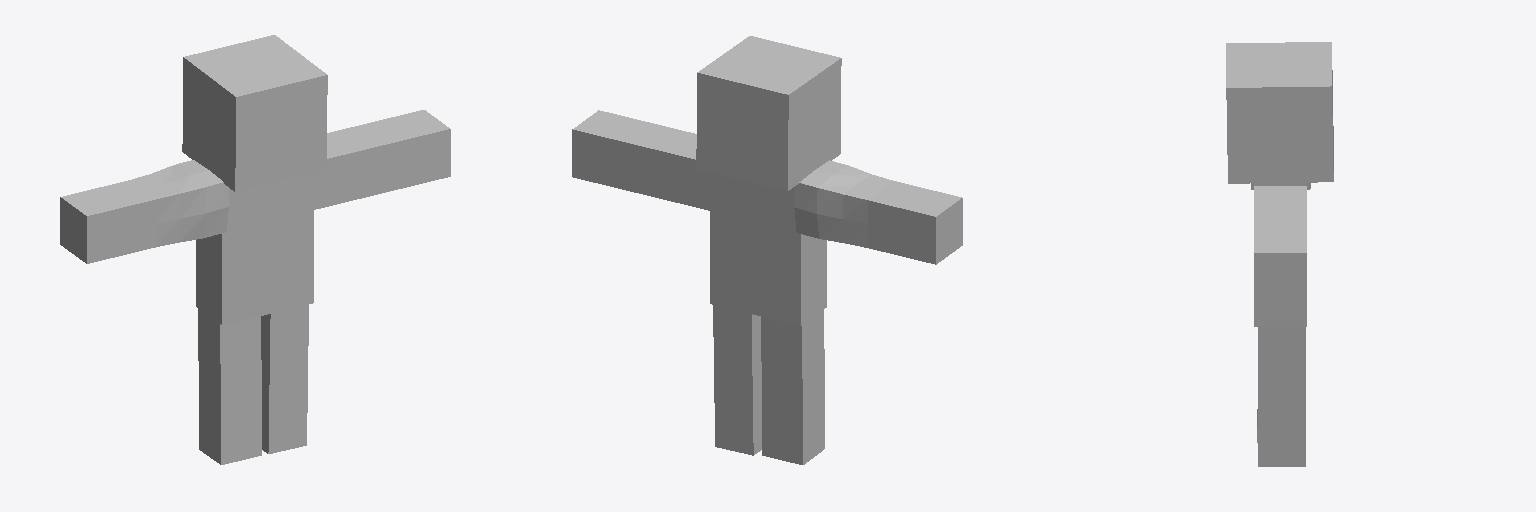
The model's file is slades fixed blender.obg.obj.
3 renders of one model, left to right at view 1: azimuth 30°, elevation 25°; view 2: azimuth 150°, elevation 25°; view 3: azimuth 270°, elevation 25°, orthographic.
Parts seen in each view (by area): view 1: Cube, Cube.001, Cube.003, Cube.002, Cube.005, Cube.004; view 2: Cube, Cube.001, Cube.003, Cube.002, Cube.005, Cube.004; view 3: Cube, Cube.004, Cube.002, Cube.001.
Boxes of the visible parts, x1=… form: Cube: x1=182, y1=35, x2=327, y2=191; Cube.001: x1=196, y1=174, x2=313, y2=325; Cube.003: x1=60, y1=160, x2=228, y2=263; Cube.002: x1=313, y1=110, x2=450, y2=209; Cube.005: x1=198, y1=308, x2=261, y2=464; Cube.004: x1=261, y1=305, x2=308, y2=453; Cube: x1=696, y1=36, x2=841, y2=190; Cube.001: x1=710, y1=173, x2=826, y2=325; Cube.003: x1=794, y1=160, x2=962, y2=264; Cube.002: x1=572, y1=110, x2=709, y2=210; Cube.005: x1=761, y1=310, x2=824, y2=464; Cube.004: x1=713, y1=305, x2=761, y2=455; Cube: x1=1226, y1=42, x2=1333, y2=183; Cube.004: x1=1258, y1=327, x2=1305, y2=466; Cube.002: x1=1254, y1=186, x2=1306, y2=300; Cube.001: x1=1254, y1=183, x2=1306, y2=326.
Size of the model in its own units: 7.95 by 7.99 by 2.03.